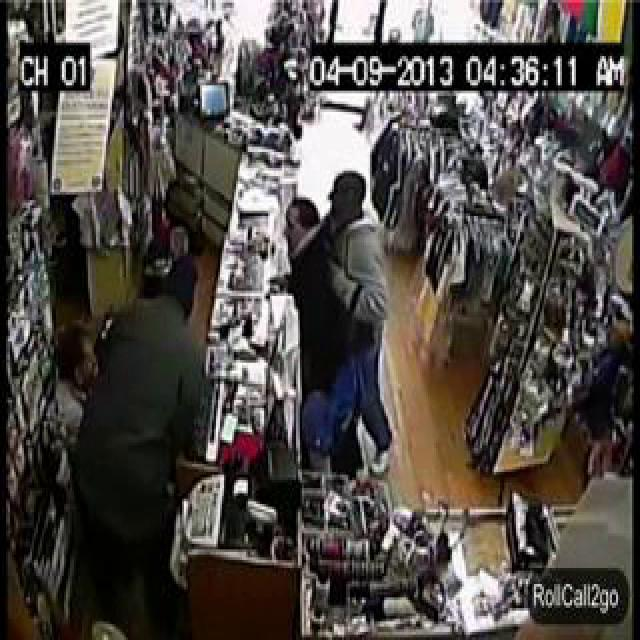robbery: (56, 0, 481, 640)
